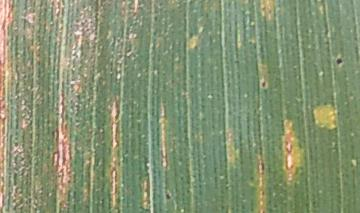tarspot: (335, 55, 344, 68), (164, 188, 172, 202), (259, 79, 268, 88)
